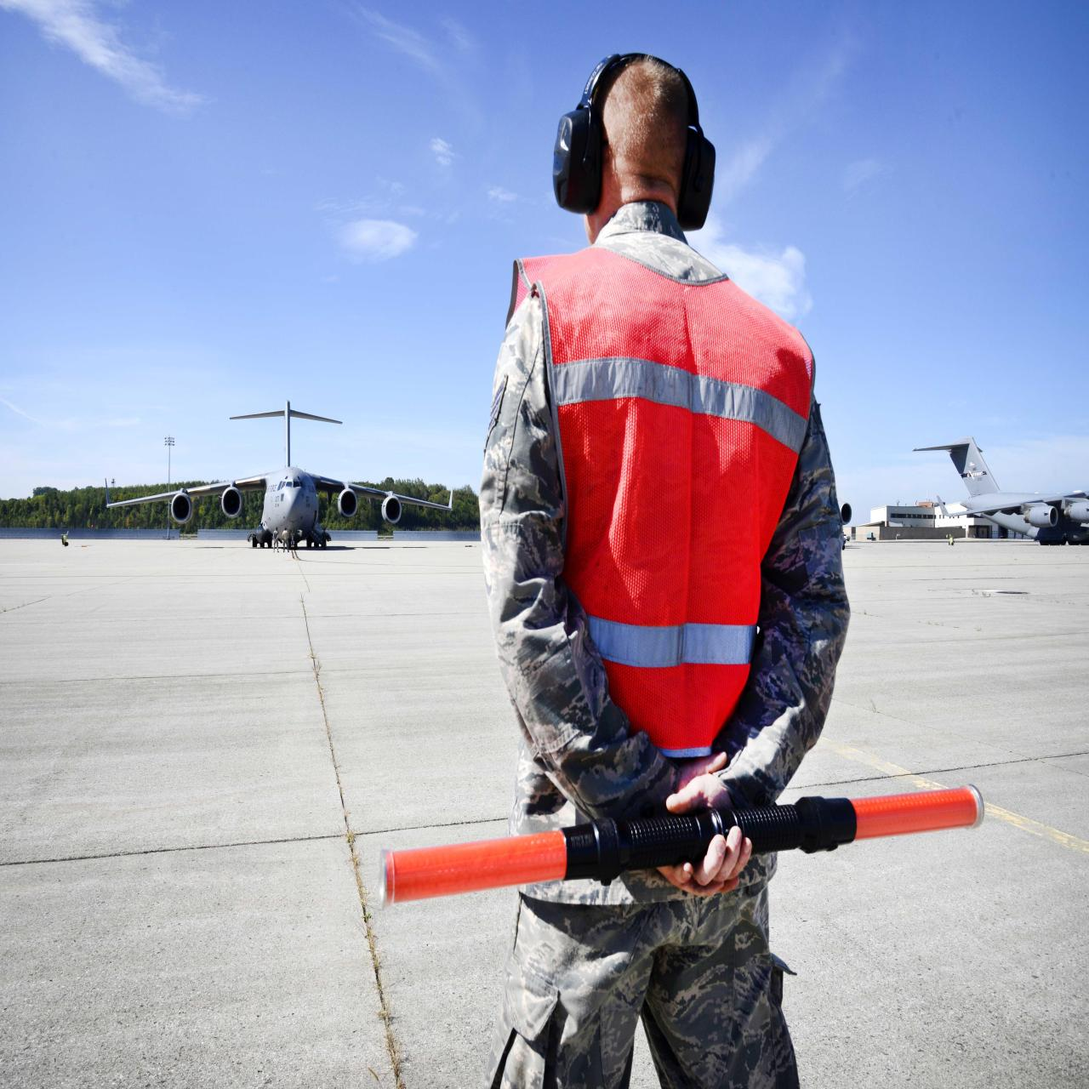Person: (478, 24, 853, 1089)
Safety_Vest: (497, 224, 829, 783)
